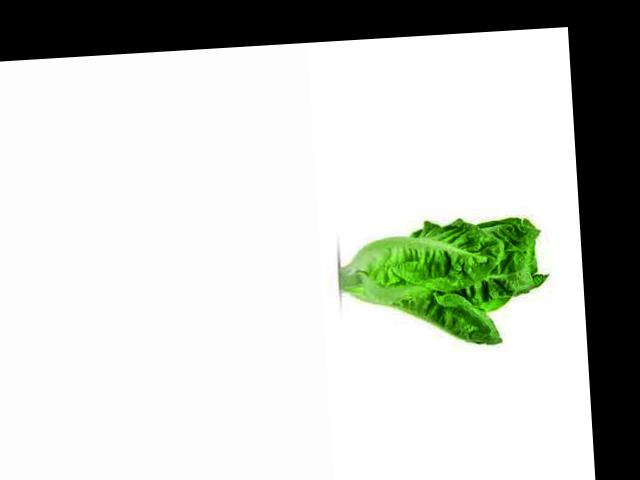lettuce: (391, 187, 555, 321)
